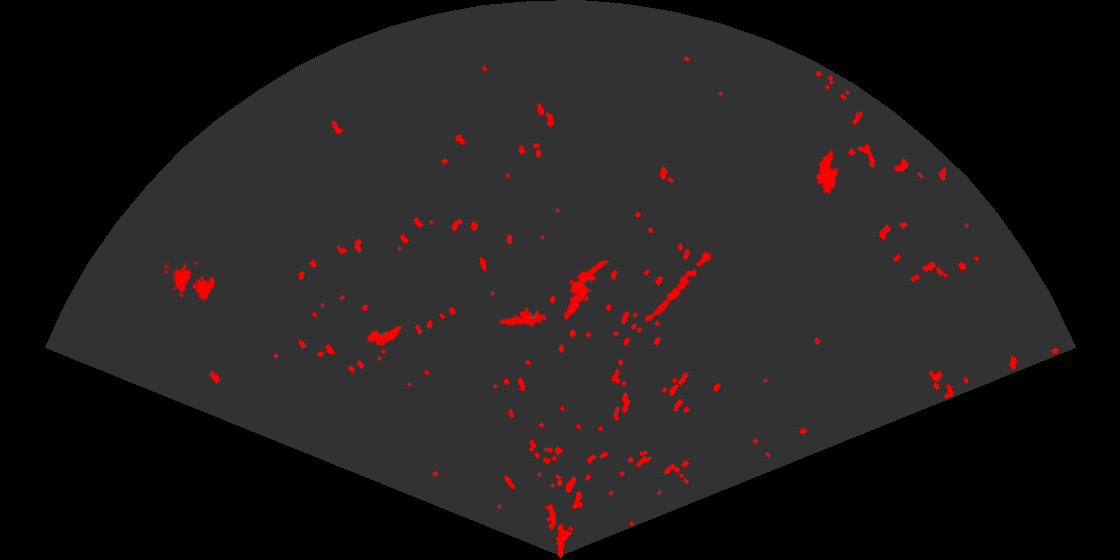AUV: (814, 148, 840, 196), (365, 324, 404, 347)
cage: (164, 262, 217, 302)
chain: (643, 244, 720, 324)
frogman: (562, 261, 609, 321), (498, 306, 546, 328)
